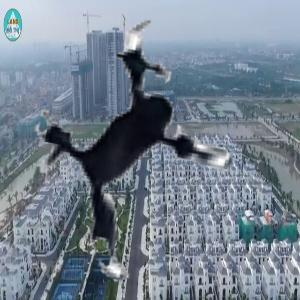drone: (1, 7, 295, 300)
